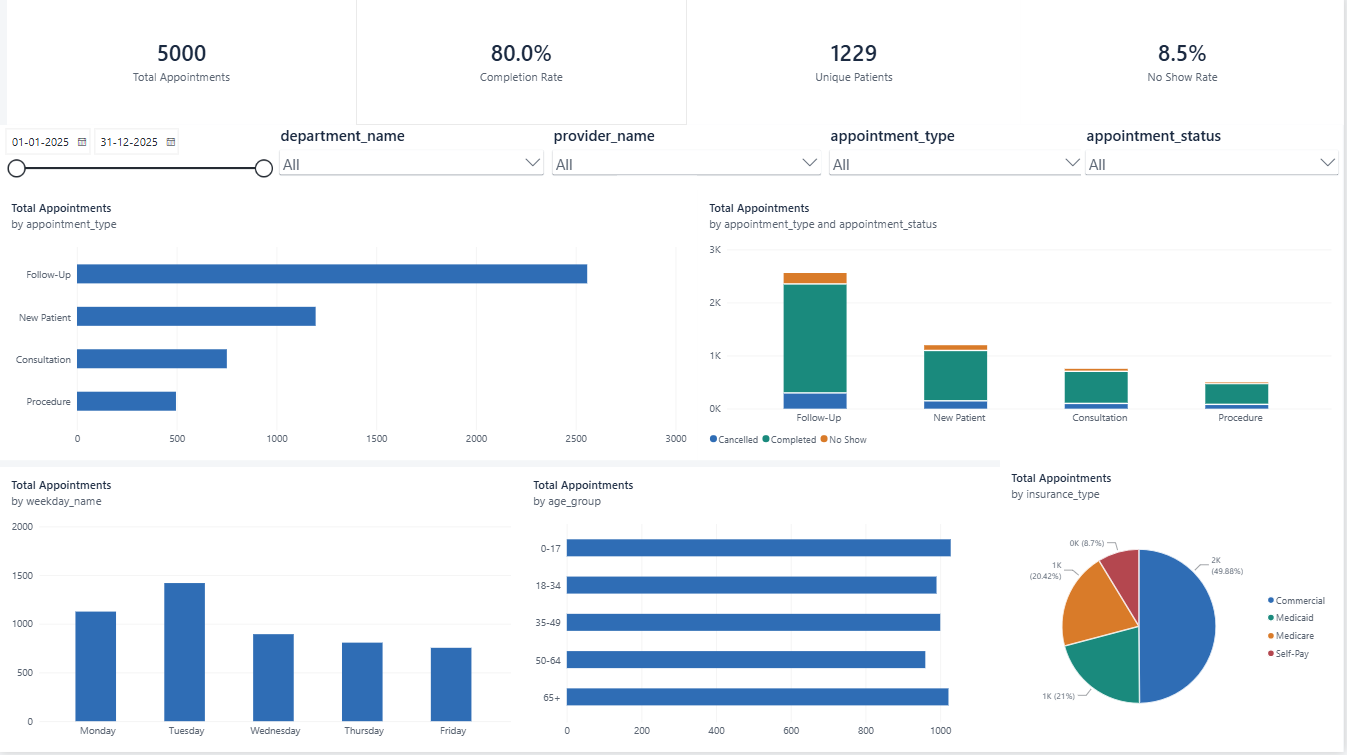

What the dashboard file says about the page in this screenshot:
{"tool":"powerbi","page":{"name":"Patient and Appointment Patterns","canvas":[1920,1080],"ordinal":2},"visuals":[{"type":"card","fields":{"Values":["Appointments.Total Appointments"]},"box":[10,0,498.6,184.3],"z":0},{"type":"card","fields":{"Values":["Appointments.Completion Rate"]},"box":[508.6,0,472.9,184.3],"z":1000},{"type":"card","fields":{"Values":["Appointments.Unique Patients"]},"box":[981.4,0,477.1,184.3],"z":2000},{"type":"card","fields":{"Values":["Appointments.No Show Rate"]},"box":[1458.6,0,461.4,184.3],"z":3000},{"type":"slicer","fields":{"Values":["Appointments.appointment_type"]},"box":[1178.6,184.3,375.7,92.9],"z":3001},{"type":"slicer","fields":{"Values":["Providers.provider_name"]},"box":[782.9,184.3,395.7,92.9],"z":3002},{"type":"slicer","fields":{"Values":["Departments.department_name"]},"box":[392.9,184.3,390,92.9],"z":3003},{"type":"slicer","fields":{"Values":["Date.date"]},"box":[0,184.3,392.9,92.9],"z":3004},{"type":"slicer","fields":{"Values":["Appointments.appointment_status"]},"box":[1544.3,184.3,374.3,92.9],"z":3005},{"type":"clusteredBarChart","fields":{"Category":["Appointments.appointment_type"],"Y":["Appointments.Total Appointments"]},"box":[0,277.1,997.1,385.7],"z":3006},{"type":"columnChart","fields":{"Category":["Appointments.appointment_type"],"Series":["Appointments.appointment_status"],"Y":["Appointments.Total Appointments"]},"box":[997.1,277.1,921.4,385.7],"z":3007},{"type":"columnChart","fields":{"Category":["Date.weekday_name"],"Y":["Appointments.Total Appointments"]},"box":[0,672.9,745.7,407.1],"z":3008},{"type":"clusteredBarChart","fields":{"Category":["Patients.age_group"],"Y":["Appointments.Total Appointments"]},"box":[745.7,672.9,682.9,407.1],"z":3009},{"type":"pieChart","fields":{"Category":["Patients.insurance_type"],"Y":["Appointments.Total Appointments"]},"box":[1428.6,662.9,490,417.1],"z":3010}]}

Visuals, with their boxes in screenshot pixels (x1, y1, x2, y2), scaled from the page's 1920x1080 canvas onto the 1347x755 screenshot:
card - Appointments.Total Appointments: x1=7, y1=0, x2=357, y2=129
card - Appointments.Completion Rate: x1=357, y1=0, x2=689, y2=129
card - Appointments.Unique Patients: x1=689, y1=0, x2=1023, y2=129
card - Appointments.No Show Rate: x1=1023, y1=0, x2=1346, y2=129
slicer - Appointments.appointment_type: x1=827, y1=129, x2=1090, y2=194
slicer - Providers.provider_name: x1=549, y1=129, x2=827, y2=194
slicer - Departments.department_name: x1=276, y1=129, x2=549, y2=194
slicer - Date.date: x1=0, y1=129, x2=276, y2=194
slicer - Appointments.appointment_status: x1=1083, y1=129, x2=1346, y2=194
clusteredBarChart - Appointments.appointment_type x Appointments.Total Appointments: x1=0, y1=194, x2=700, y2=463
columnChart - Appointments.appointment_type x Appointments.appointment_status: x1=700, y1=194, x2=1346, y2=463
columnChart - Date.weekday_name x Appointments.Total Appointments: x1=0, y1=470, x2=523, y2=754
clusteredBarChart - Patients.age_group x Appointments.Total Appointments: x1=523, y1=470, x2=1002, y2=754
pieChart - Patients.insurance_type x Appointments.Total Appointments: x1=1002, y1=463, x2=1346, y2=754
